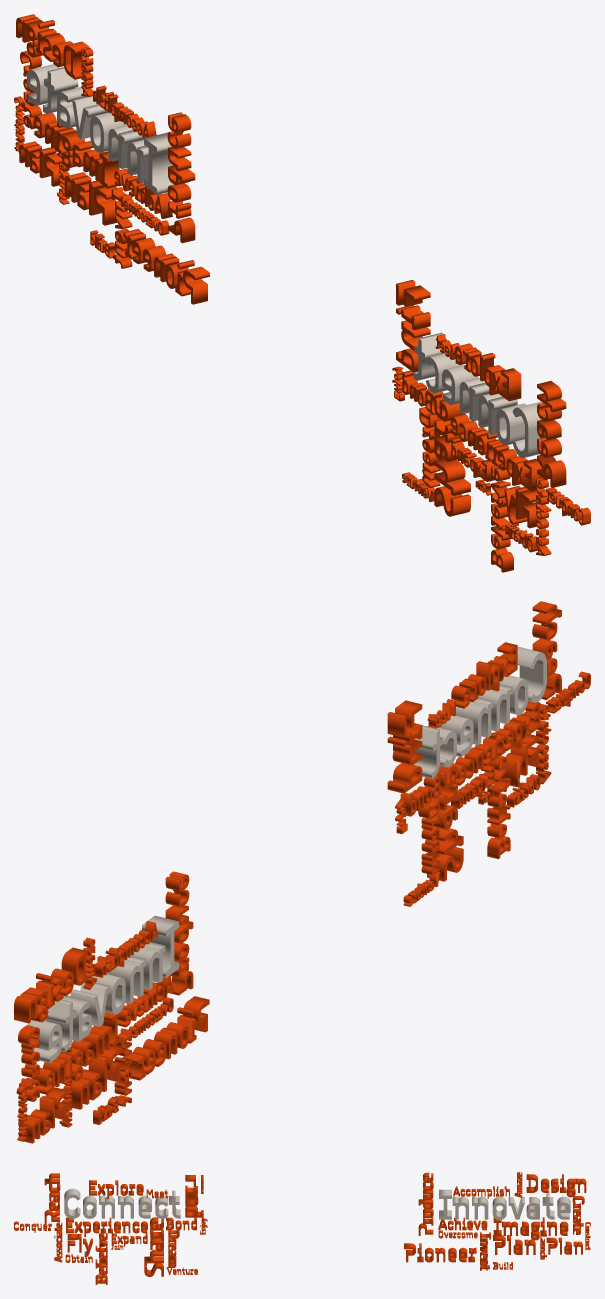
3 renders of one model, top to bottom at view 1: azimuth 30°, elevation 25°; view 2: azimuth 150°, elevation 25°; view 3: azimuth 270°, elevation 25°, orthographic. The views are drawn at different scales.
Parts seen in each view (by area): view 1: Text.011, Text, Text.004, Text.024, Text.012, Text.016, Text.003, Text.001, Text.022, Text.006, Text.005, Text.029 (+12 smaller); view 2: Text.011, Text, Text.024, Text.022, Text.016, Text.006, Text.003, Text.004, Text.012, Text.005, Text.029, Text.001 (+12 smaller); view 3: Text.011, Text, Text.016, Text.003, Text.004, Text.024, Text.022, Text.012, Text.006, Text.001, Text.005, Text.029 (+13 smaller).
Boxes of the visible parts, left/top/right/bottom form: Text.011: left=27, top=64, right=173, bottom=194; Text: left=413, top=332, right=542, bottom=457; Text.004: left=434, top=396, right=470, bottom=516; Text.024: left=123, top=229, right=209, bottom=304; Text.012: left=167, top=112, right=195, bottom=243; Text.016: left=33, top=112, right=119, bottom=188; Text.003: left=450, top=414, right=542, bottom=491; Text.001: left=537, top=381, right=566, bottom=487; Text.022: left=16, top=14, right=89, bottom=79; Text.006: left=396, top=280, right=430, bottom=372; Text.005: left=455, top=343, right=521, bottom=401; Text.029: left=491, top=466, right=513, bottom=572; Text.011: left=27, top=915, right=178, bottom=1062; Text: left=414, top=646, right=546, bottom=778; Text.024: left=123, top=996, right=209, bottom=1080; Text.022: left=14, top=947, right=87, bottom=1023; Text.016: left=31, top=1012, right=120, bottom=1094; Text.006: left=387, top=700, right=422, bottom=793; Text.003: left=452, top=701, right=540, bottom=785; Text.004: left=427, top=765, right=463, bottom=881; Text.012: left=165, top=871, right=193, bottom=995; Text.005: left=451, top=642, right=517, bottom=708; Text.029: left=487, top=755, right=510, bottom=859; Text.001: left=532, top=601, right=561, bottom=699; Text.011: left=439, top=1189, right=570, bottom=1219; Text: left=64, top=1188, right=180, bottom=1218; Text.016: left=493, top=1217, right=568, bottom=1240; Text.003: left=66, top=1217, right=147, bottom=1236; Text.004: left=144, top=1217, right=163, bottom=1276; Text.024: left=404, top=1243, right=476, bottom=1262; Text.022: left=526, top=1174, right=586, bottom=1197; Text.012: left=418, top=1172, right=433, bottom=1235; Text.006: left=185, top=1175, right=203, bottom=1217; Text.001: left=44, top=1173, right=60, bottom=1223; Text.005: left=89, top=1180, right=143, bottom=1199; Text.029: left=95, top=1233, right=107, bottom=1284.
Size of the model in its own units: 89.47 by 729 by 3474.
